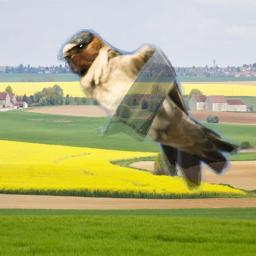Swallow: (57, 29, 242, 192)
